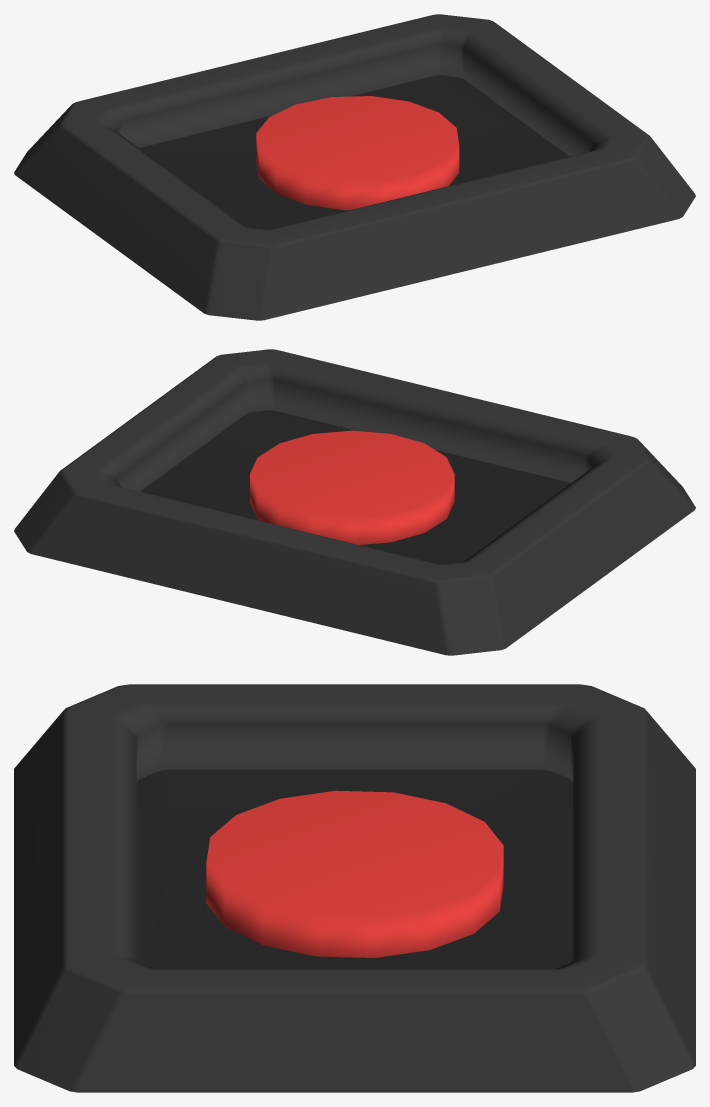
The model's file is platform_018_001.fbx.
3 views of the same model, one above another, from view 1: azimuth 30°, elevation 25°; view 2: azimuth 150°, elevation 25°; view 3: azimuth 270°, elevation 25° (orthographic). The views are drawn at different scales.
Visible parts, largest first — view 1: platform_018_001; view 2: platform_018_001; view 3: platform_018_001.
Boxes of the visible parts, x1,y1,x2,y2 form: platform_018_001: (14, 14, 695, 320); platform_018_001: (14, 349, 695, 655); platform_018_001: (14, 684, 695, 1092).
Bounding box in the file's own units: 378 × 310 × 40.56.
